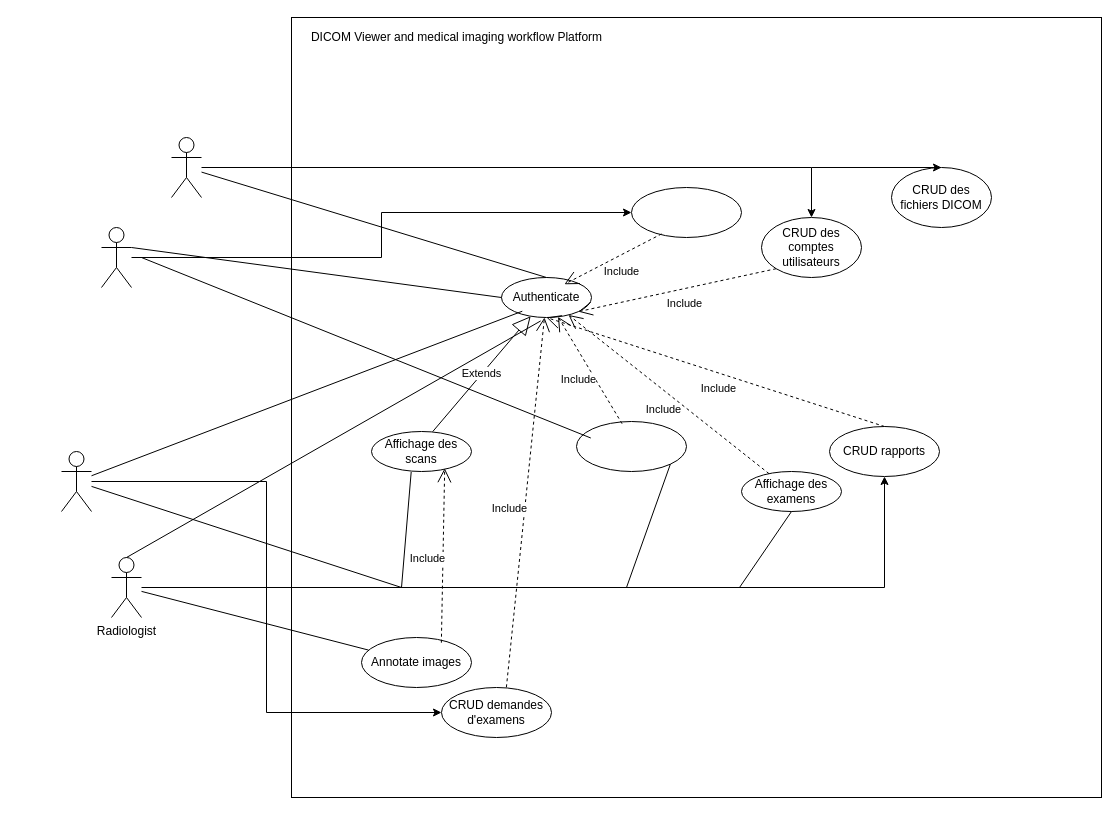
Image size: 1119x815. Some labels were removed from this diagram. The shapes that lost their labels are listed below. From the top down, each one's box as (x1, y1, x2, y2) in pixels, then its label:
(170, 136, 202, 198): IT Administrator
(630, 186, 742, 238): CRUD des examens
(100, 226, 132, 288): Head of Medical Imaging Department
(576, 420, 686, 472): Lecture rapports radiologue
(60, 450, 92, 512): Referring Physician
